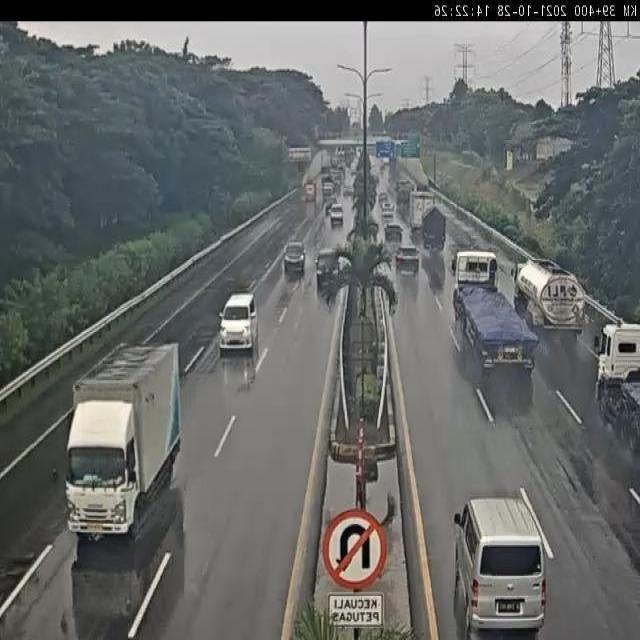Car: (275, 237, 307, 284), (317, 238, 339, 298), (395, 248, 419, 289), (326, 198, 349, 235), (383, 218, 404, 247)
Truck: (47, 334, 198, 551), (443, 239, 531, 389), (512, 246, 592, 354), (595, 307, 640, 454), (424, 204, 450, 264), (403, 182, 427, 233)
Van: (450, 486, 562, 635), (207, 282, 265, 356)
